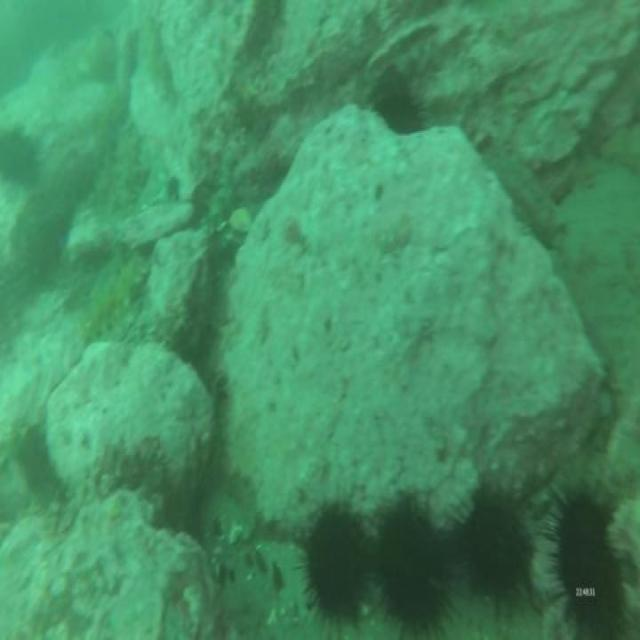echinus: (538, 477, 626, 640), (369, 485, 453, 640), (450, 480, 537, 621), (294, 490, 374, 640), (371, 89, 429, 138), (0, 122, 42, 188)
holothurian: (76, 251, 148, 349), (139, 0, 177, 106), (115, 114, 146, 216)
